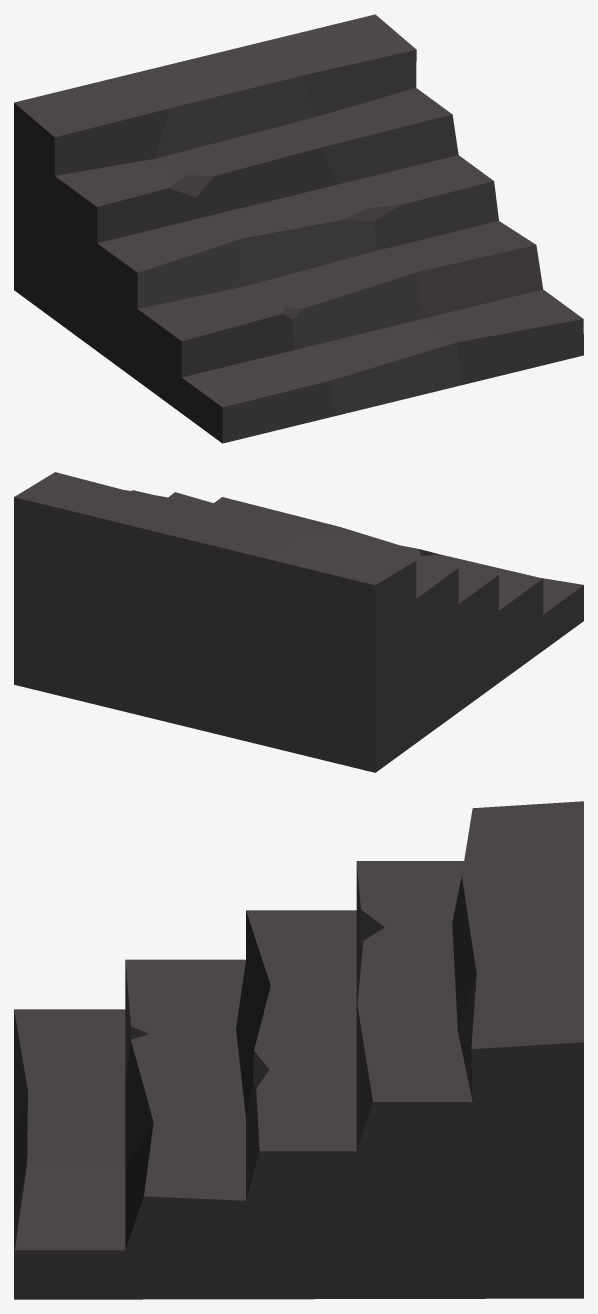
The model's file is Module_Stair_Straight_1M_02.glb.
The picture shows the model from 3 angles, top to bottom: view 1: azimuth 30°, elevation 25°; view 2: azimuth 150°, elevation 25°; view 3: azimuth 270°, elevation 25°; orthographic projection. The views are drawn at different scales.
Parts seen in each view (by area): view 1: Module_Stair_Straight_1M_02; view 2: Module_Stair_Straight_1M_02; view 3: Module_Stair_Straight_1M_02.
Part boxes in pixels (box(x1,y1,x2,y2)): Module_Stair_Straight_1M_02: box(14, 14, 583, 443); Module_Stair_Straight_1M_02: box(14, 472, 583, 772); Module_Stair_Straight_1M_02: box(14, 801, 583, 1299).
Size of what is drawn, in the model's own units: 1 by 0.4982 by 0.9995.
Materials: 1 (1 with a texture image).
